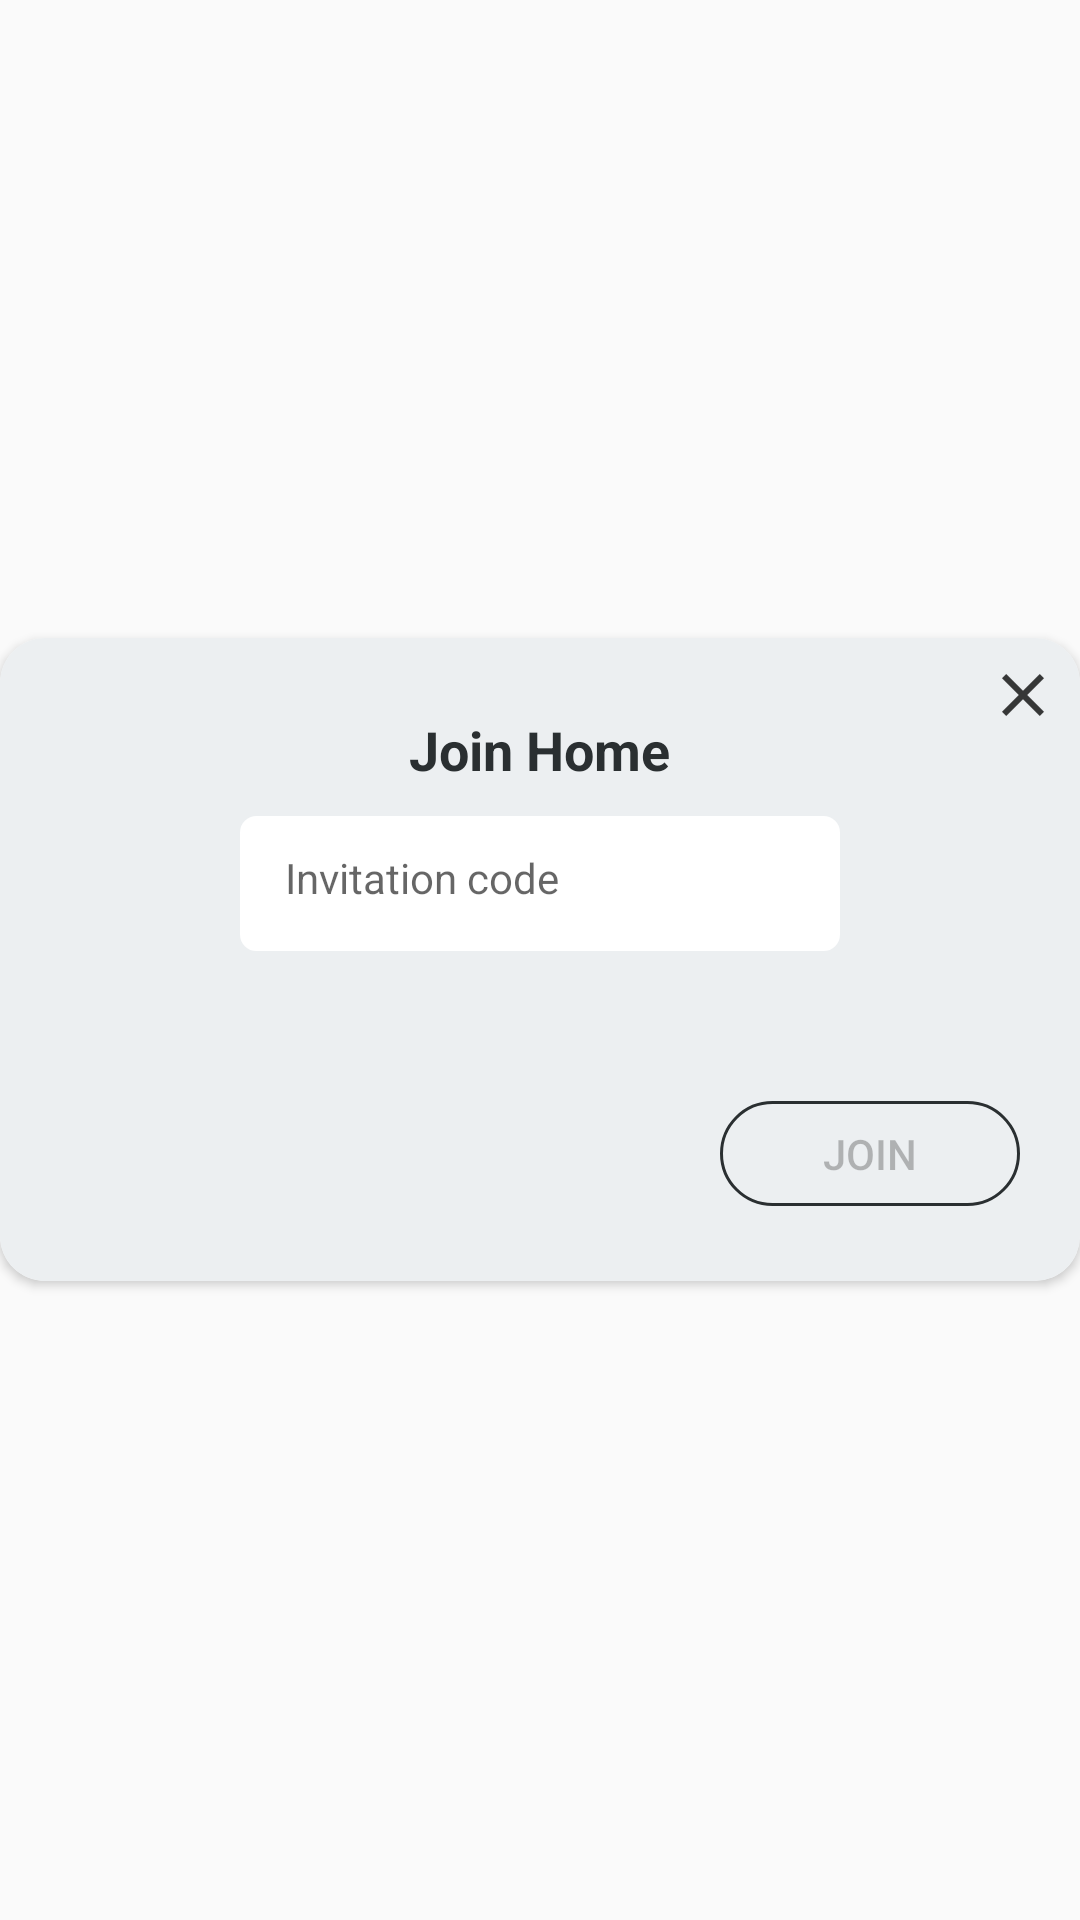

Named icons in this screenshot (1080 × 1920) and their bounding boxes, (x1, y1, x2, y2):
close: (1002, 674, 1044, 716)
